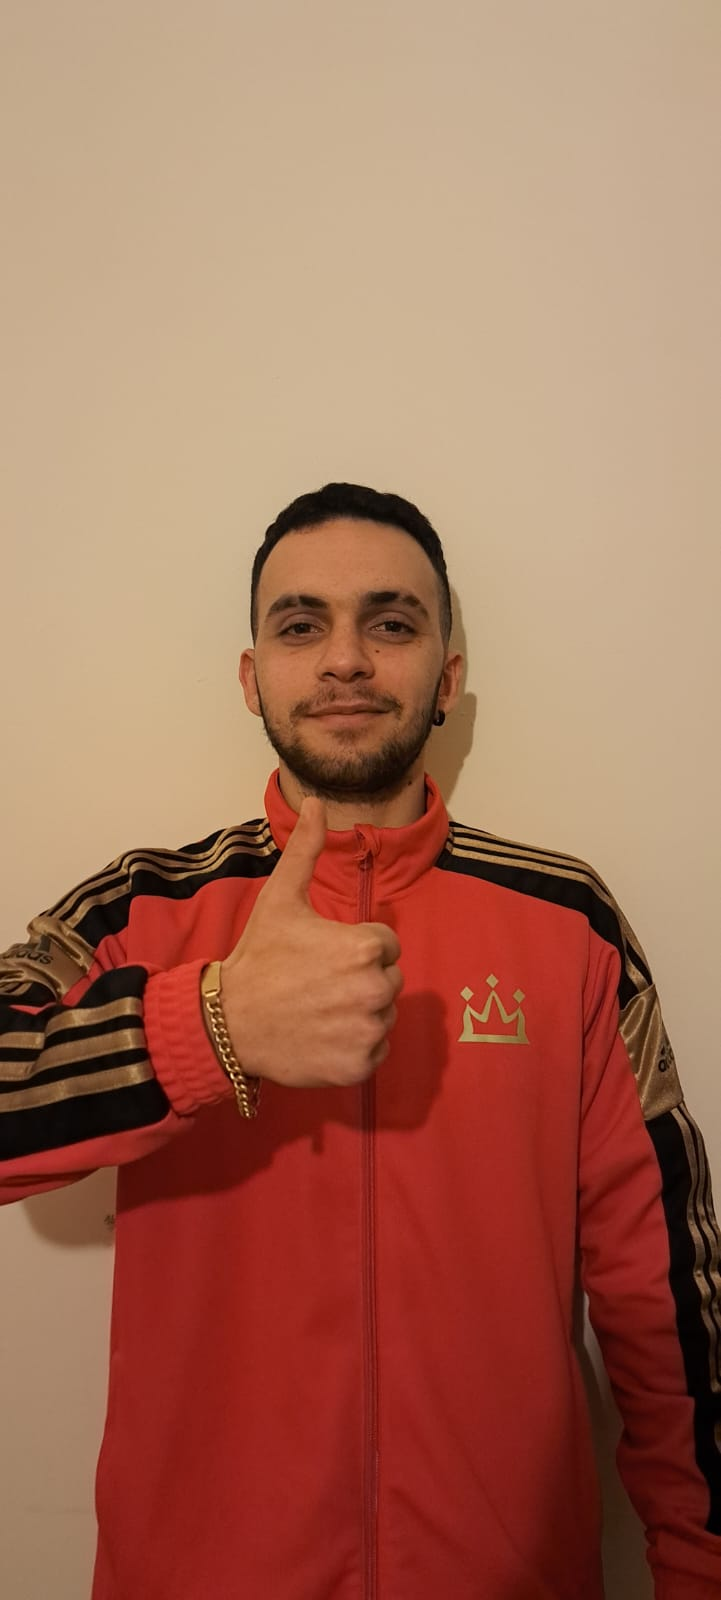okay: (230, 787, 411, 1108)
